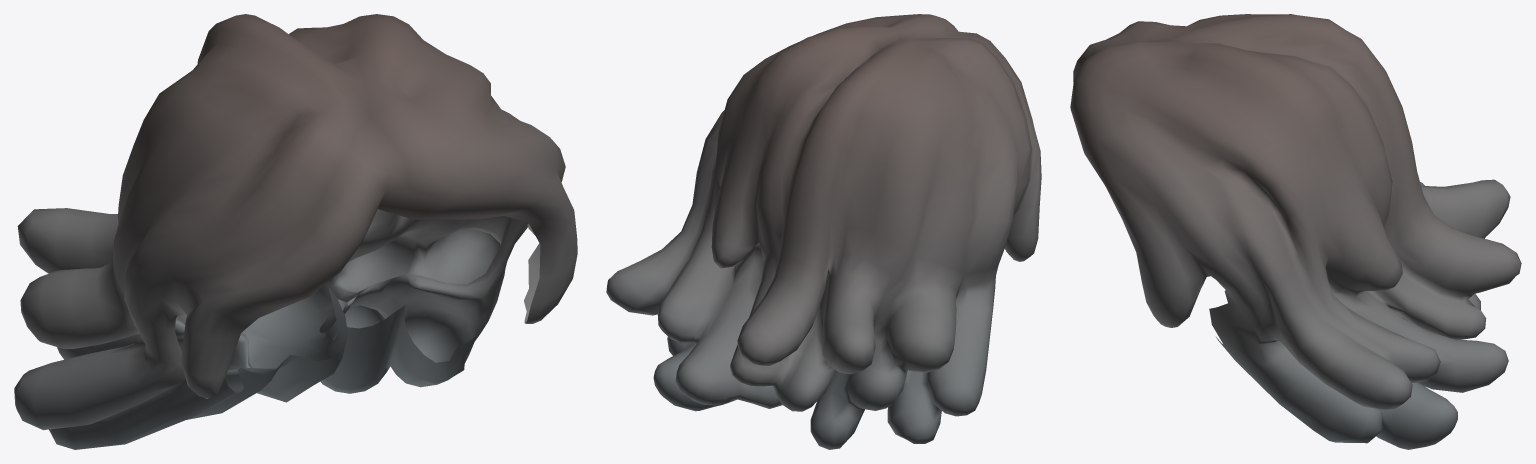
Rendered from Hairstyle_Female_06.glb.
3 renders of one model, left to right at view 1: azimuth 30°, elevation 25°; view 2: azimuth 150°, elevation 25°; view 3: azimuth 270°, elevation 25°, orthographic. The views are drawn at different scales.
Parts seen in each view (by area): view 1: Hairstyle_Female_06; view 2: Hairstyle_Female_06; view 3: Hairstyle_Female_06.
Boxes of the visible parts, x1=… form: Hairstyle_Female_06: x1=14, y1=14, x2=577, y2=449; Hairstyle_Female_06: x1=606, y1=14, x2=1041, y2=449; Hairstyle_Female_06: x1=1070, y1=14, x2=1521, y2=449.
Bounding box in the file's own units: 0.809 × 0.7124 × 0.8015.
1 material, 1 textured.
